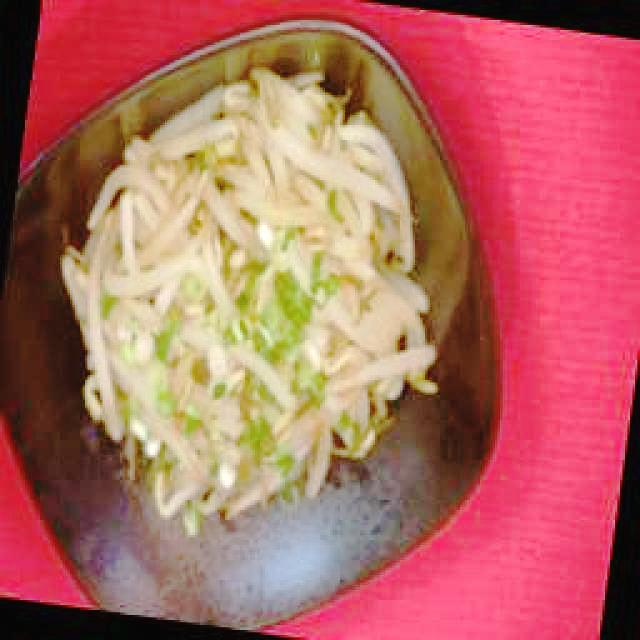mung_bean_sprouts: (70, 74, 435, 521)
